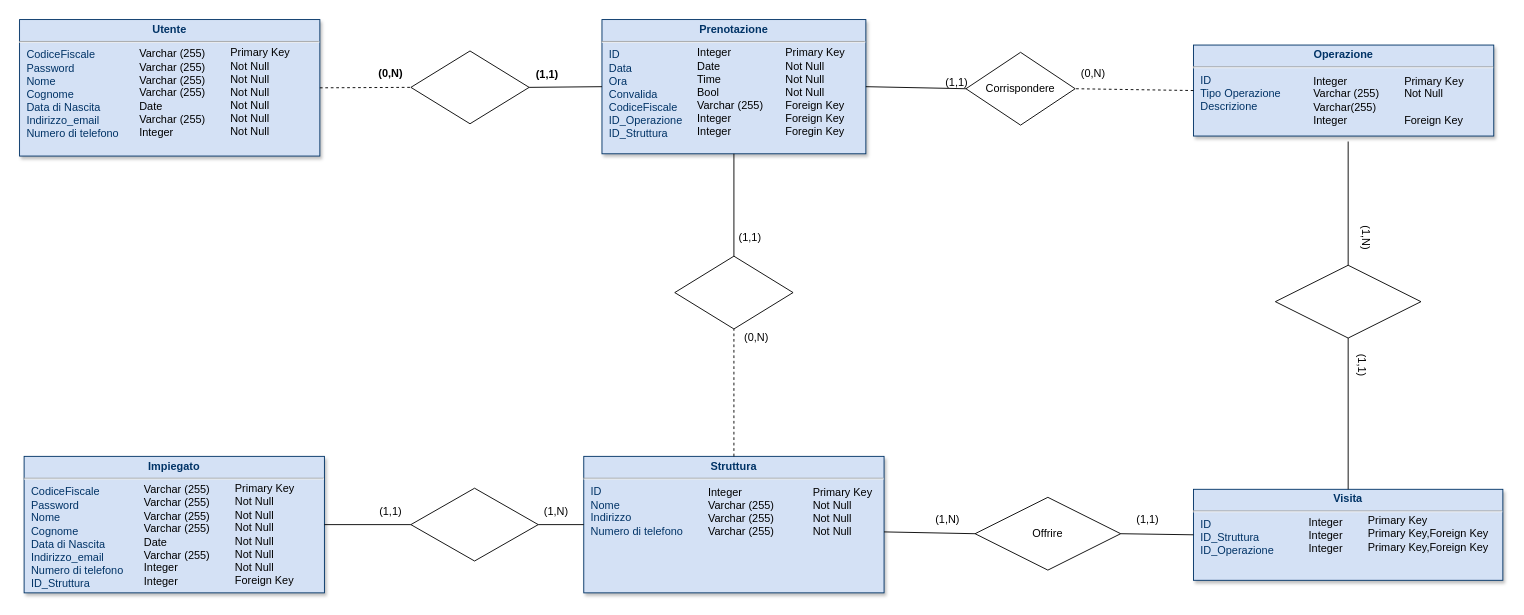
The diagram is 1524 pixels wide and 615 high, and some of its shapes have lost their labels. Here are the shapes that lost their labels. From the top down, the centre of each, then its label:
the point at 469,87: Richiedere
the point at 733,292: Riguardare
the point at 1347,301: Comprendere
the point at 474,524: Lavorare
